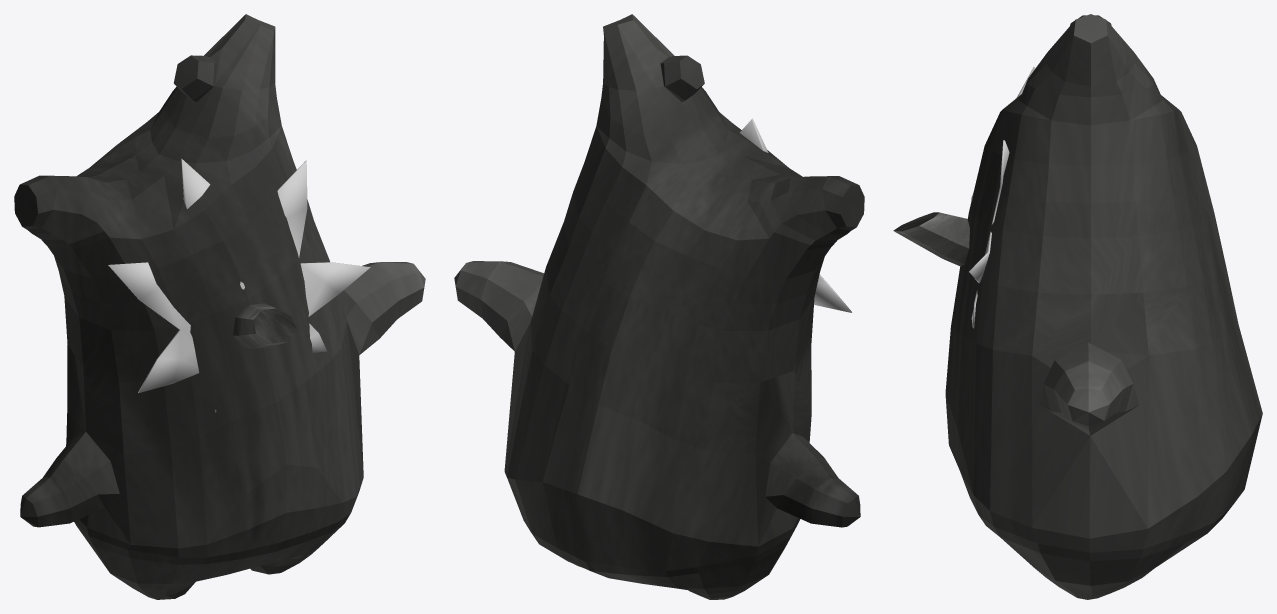
Rendered from frame_0030.obj.
3 renders of one model, left to right at view 1: azimuth 30°, elevation 25°; view 2: azimuth 150°, elevation 25°; view 3: azimuth 270°, elevation 25°, orthographic. The views are drawn at different scales.
Parts seen in each view (by area): view 1: korok, leaf, nose; view 2: korok, leaf; view 3: korok, nose, leaf.
Boxes of the visible parts, x1,y1,x2,y2 form: korok: [14, 14, 425, 599]; leaf: [108, 158, 370, 412]; nose: [233, 303, 296, 348]; korok: [454, 14, 864, 599]; leaf: [739, 118, 851, 312]; korok: [945, 14, 1262, 599]; nose: [893, 212, 969, 265]; leaf: [969, 67, 1034, 328].
Size of the model in its own units: 1.76 by 2.31 by 1.36.
